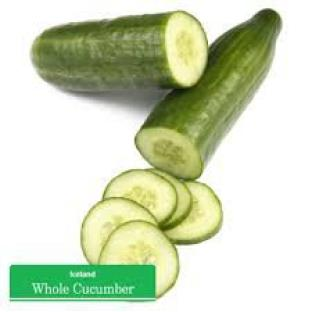Cucumber: (136, 10, 281, 178), (32, 12, 207, 91), (99, 221, 178, 296), (81, 199, 156, 263), (103, 170, 177, 224), (166, 182, 223, 244), (150, 168, 191, 230)
